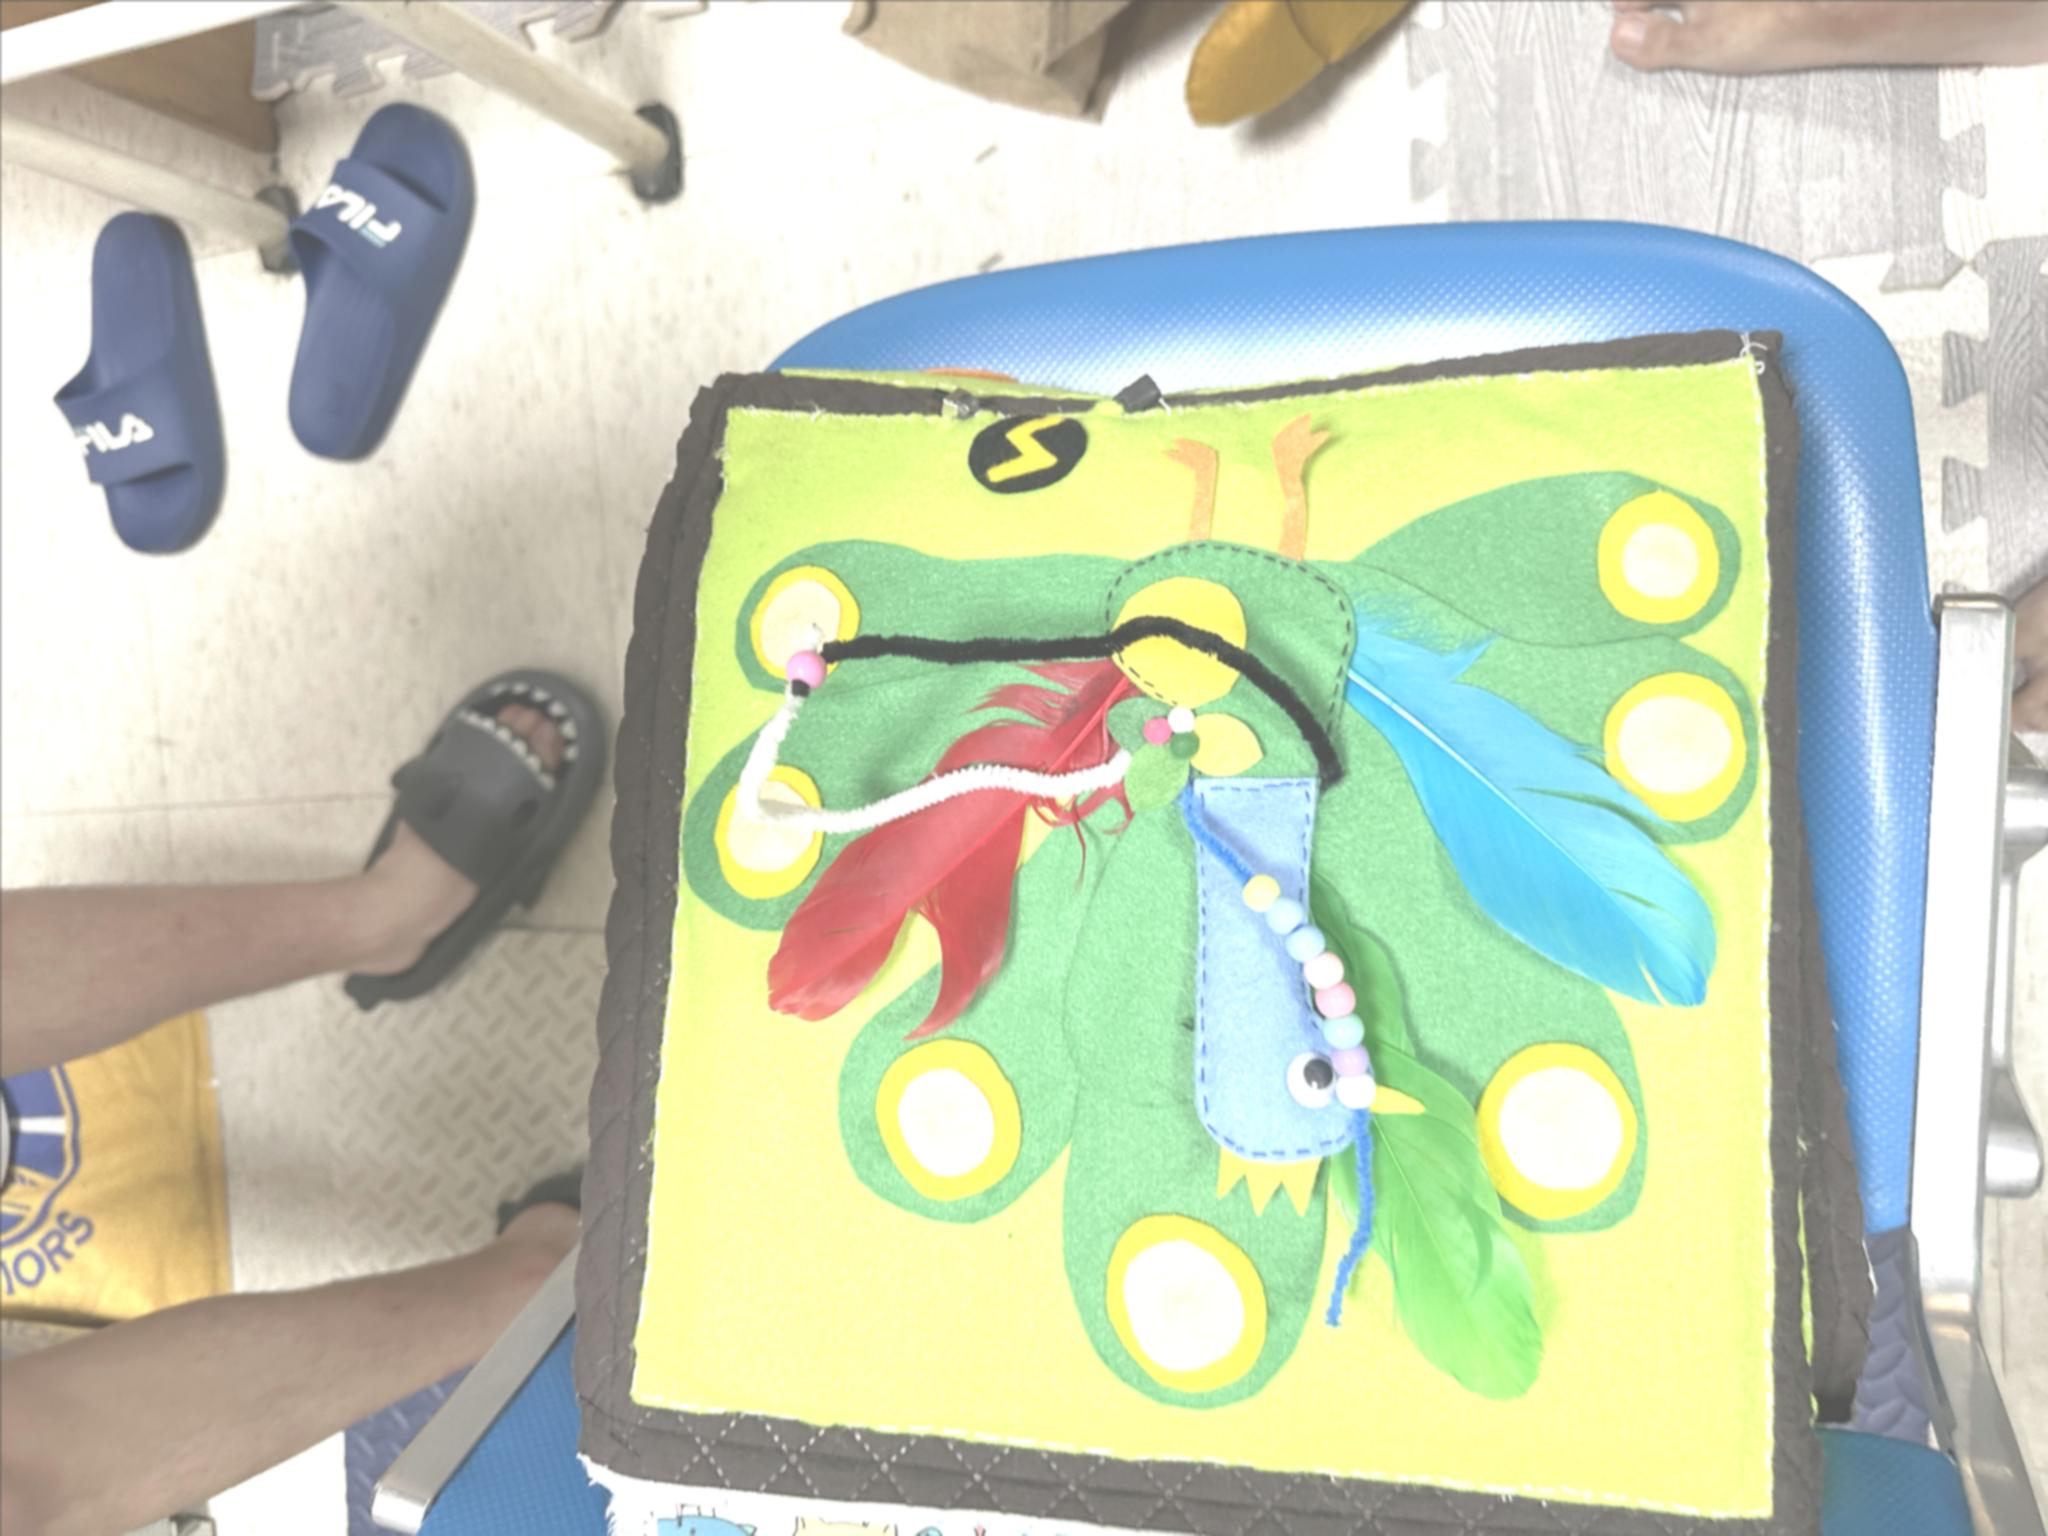bead: (784, 639, 834, 707), (1327, 1073, 1379, 1113), (1321, 1018, 1369, 1052), (1243, 874, 1279, 915), (1324, 1049, 1372, 1078), (1311, 987, 1359, 1016), (1263, 899, 1306, 928), (1280, 923, 1321, 954), (1301, 957, 1347, 981)
